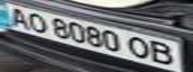0: (103, 28, 124, 54), (66, 20, 87, 44)
8: (48, 16, 72, 39), (84, 24, 106, 48)
A: (3, 6, 33, 29)
B: (148, 38, 181, 66)
O: (124, 34, 154, 61), (21, 10, 51, 34)
